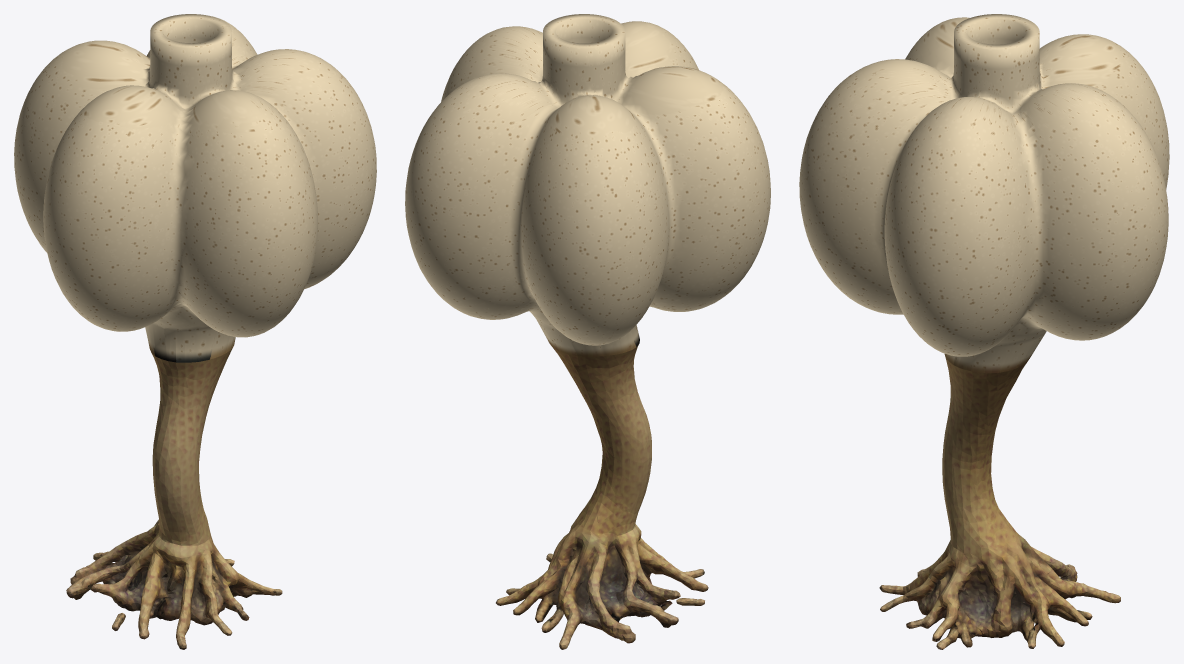
The picture shows the model from 3 angles, left to right: view 1: azimuth 30°, elevation 25°; view 2: azimuth 150°, elevation 25°; view 3: azimuth 270°, elevation 25°; orthographic projection. The views are drawn at different scales.
Visible parts, largest first — view 1: world; view 2: world; view 3: world.
Part boxes in pixels (x1,y1,x2,y2): world: (14,14,376,649); world: (405,14,770,649); world: (799,14,1169,649).
Size of the model in its own units: 0.58 by 0.9918 by 0.5623.
Materials: 2 (2 with a texture image).
